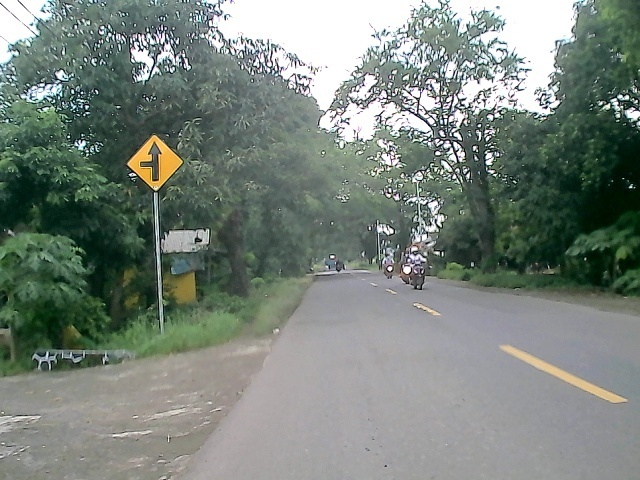Simpang kiri dengan prioritas: (121, 133, 188, 193)
